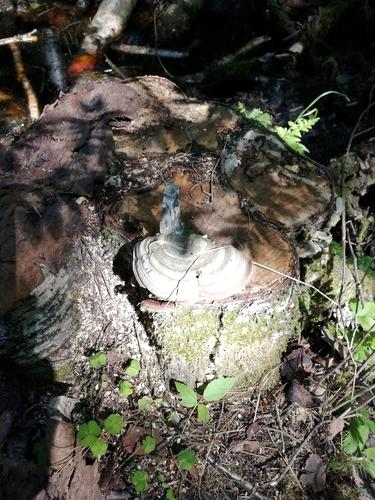Ganoderma - Fruit Body: (132, 229, 251, 304)
